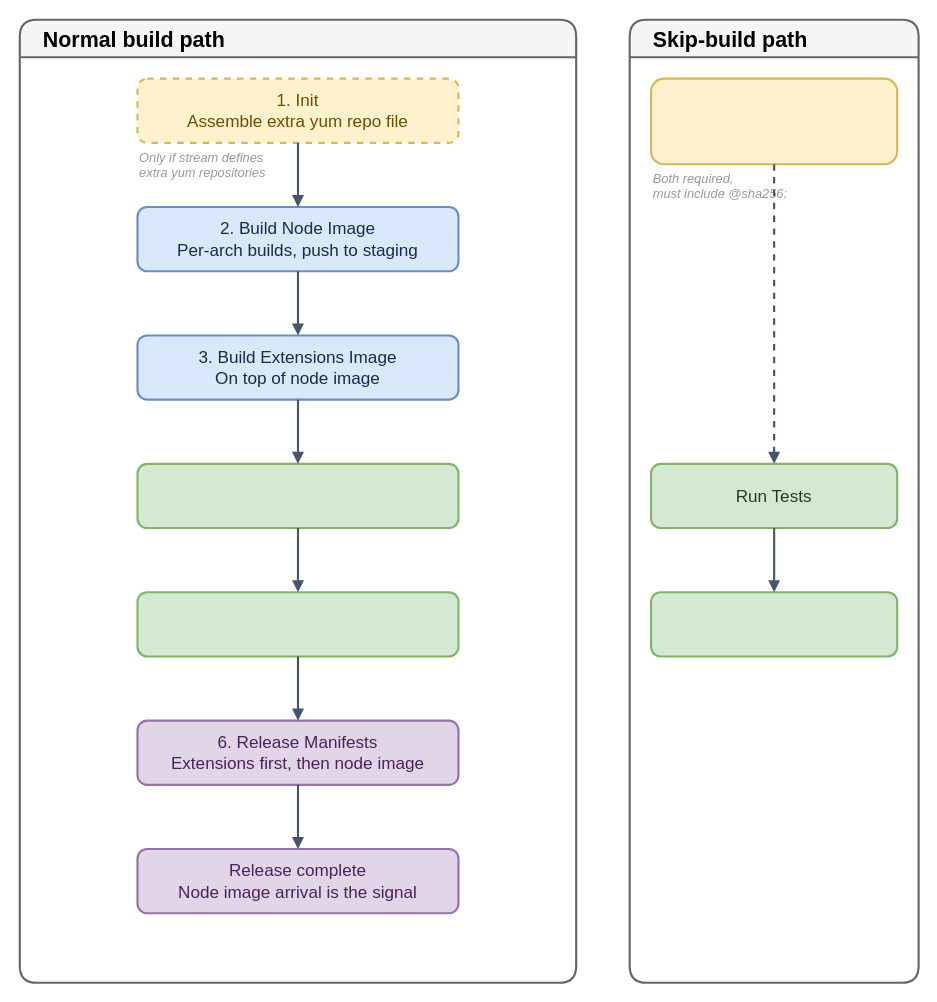
This 937x1002 diagram has some shape labels left out. The shapes that lost their labels are listed below. From the top down, each one's centre as x and y in pixels, then its label:
(773,121): Prebuilt digests NODE_IMAGE + EXTENSIONS_IMAGE
(297,495): 4. Run Tests cosa init, kola run per arch
(297,624): 5. Brew Upload Extract metadata, upload
(773,624): Brew Upload
